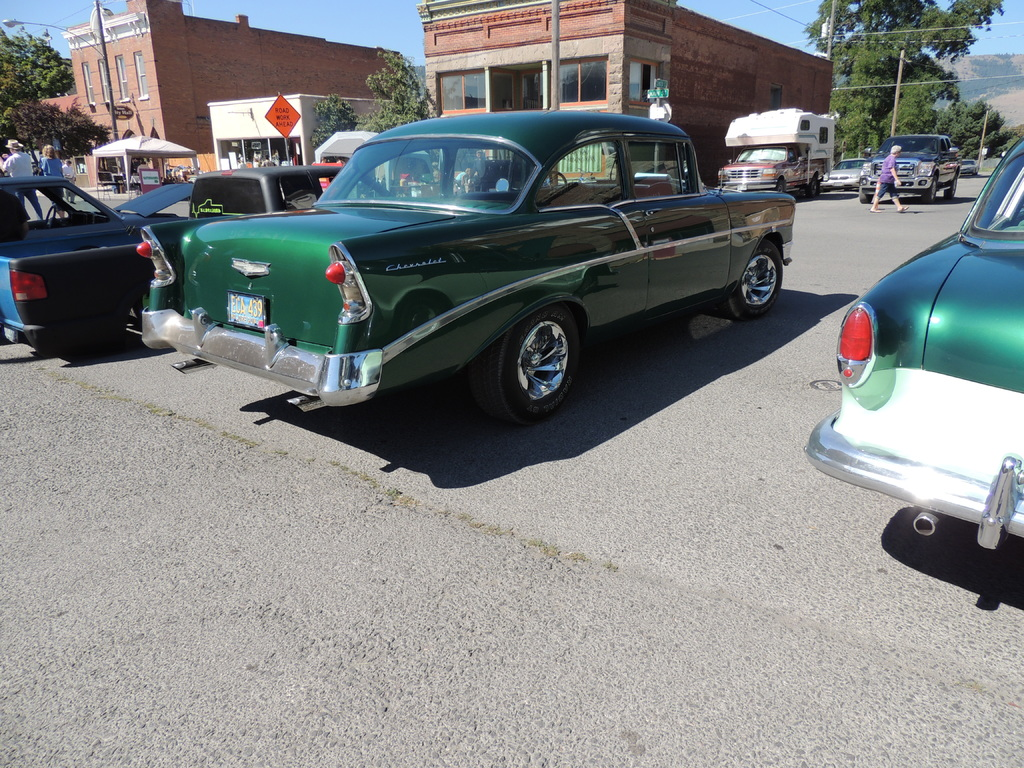Car: (139, 104, 796, 430), (805, 132, 1023, 560), (190, 168, 391, 220), (860, 135, 963, 202), (821, 159, 873, 192)
